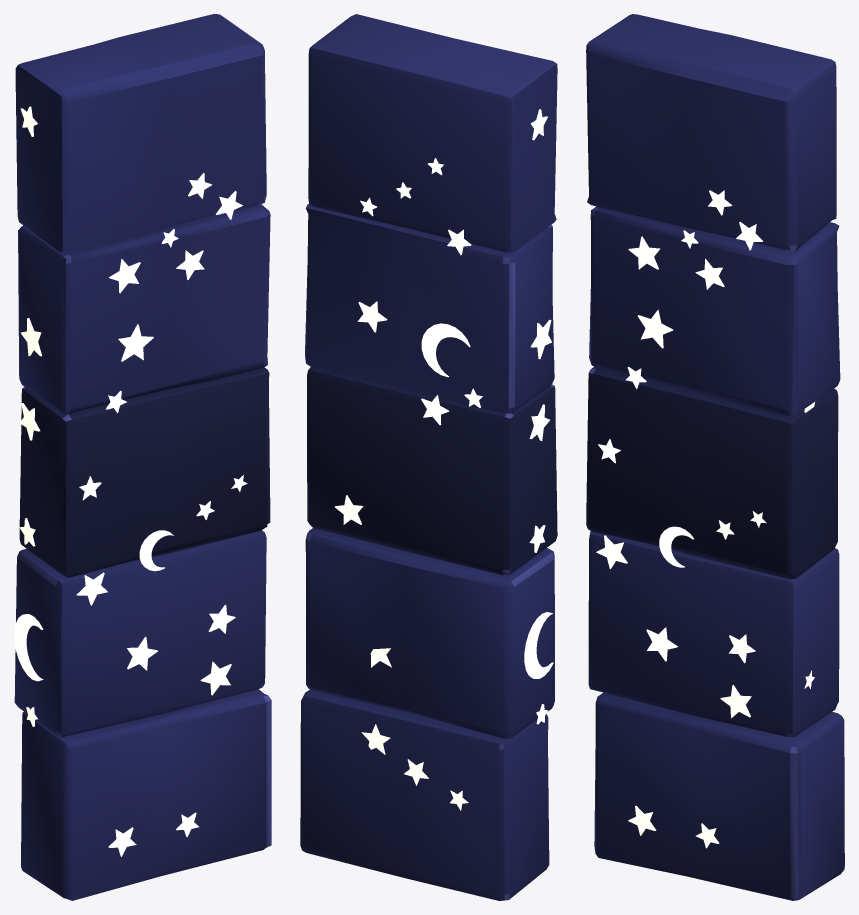
File: den_night_column.glb
3 views of the same model, side by side, from view 1: azimuth 30°, elevation 25°; view 2: azimuth 150°, elevation 25°; view 3: azimuth 330°, elevation 25° (orthographic).
Visible parts, largest first — view 1: den_night_column; view 2: den_night_column; view 3: den_night_column.
Part boxes in pixels (x1,y1,x2,y2): den_night_column: [14, 14, 271, 900]; den_night_column: [300, 14, 557, 900]; den_night_column: [586, 14, 844, 900].
Bounding box in the file's own units: 6.29 × 22.07 × 2.6.
